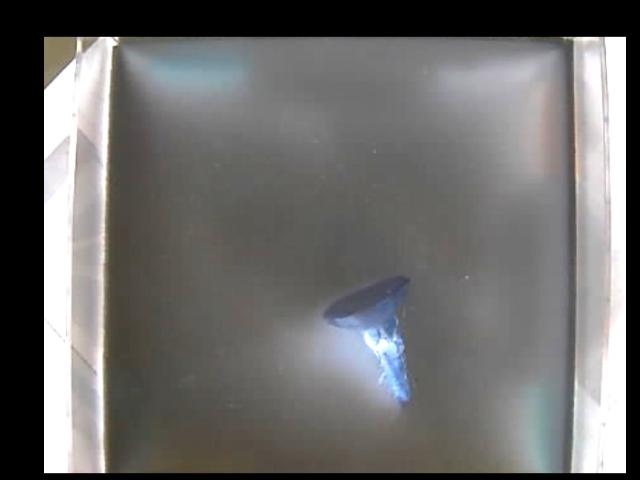Mooli: (324, 275, 415, 403)
